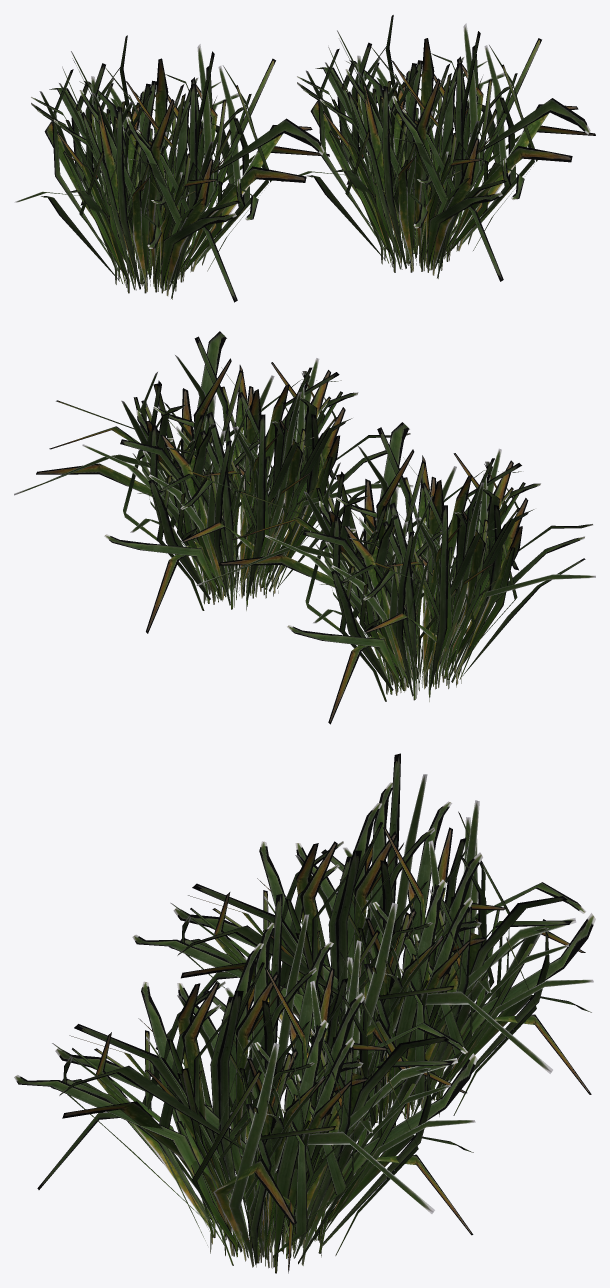
Rendered from grass.glb.
The picture shows the model from 3 angles, top to bottom: view 1: azimuth 30°, elevation 25°; view 2: azimuth 150°, elevation 25°; view 3: azimuth 270°, elevation 25°; orthographic projection. The views are drawn at different scales.
Parts seen in each view (by area): view 1: High grass clump.001, High grass clump; view 2: High grass clump.001, High grass clump; view 3: High grass clump, High grass clump.001.
Part boxes in pixels (box(x1,y1,x2,y2)): High grass clump.001: box(14, 35, 329, 302); High grass clump: box(280, 15, 595, 281); High grass clump.001: box(196, 422, 595, 724); High grass clump: box(14, 331, 413, 633); High grass clump: box(14, 893, 477, 1273); High grass clump.001: box(132, 753, 595, 1127).
Size of the model in its own units: 0.9641 by 0.4009 by 0.6665.
Materials: 1 (1 with a texture image).
